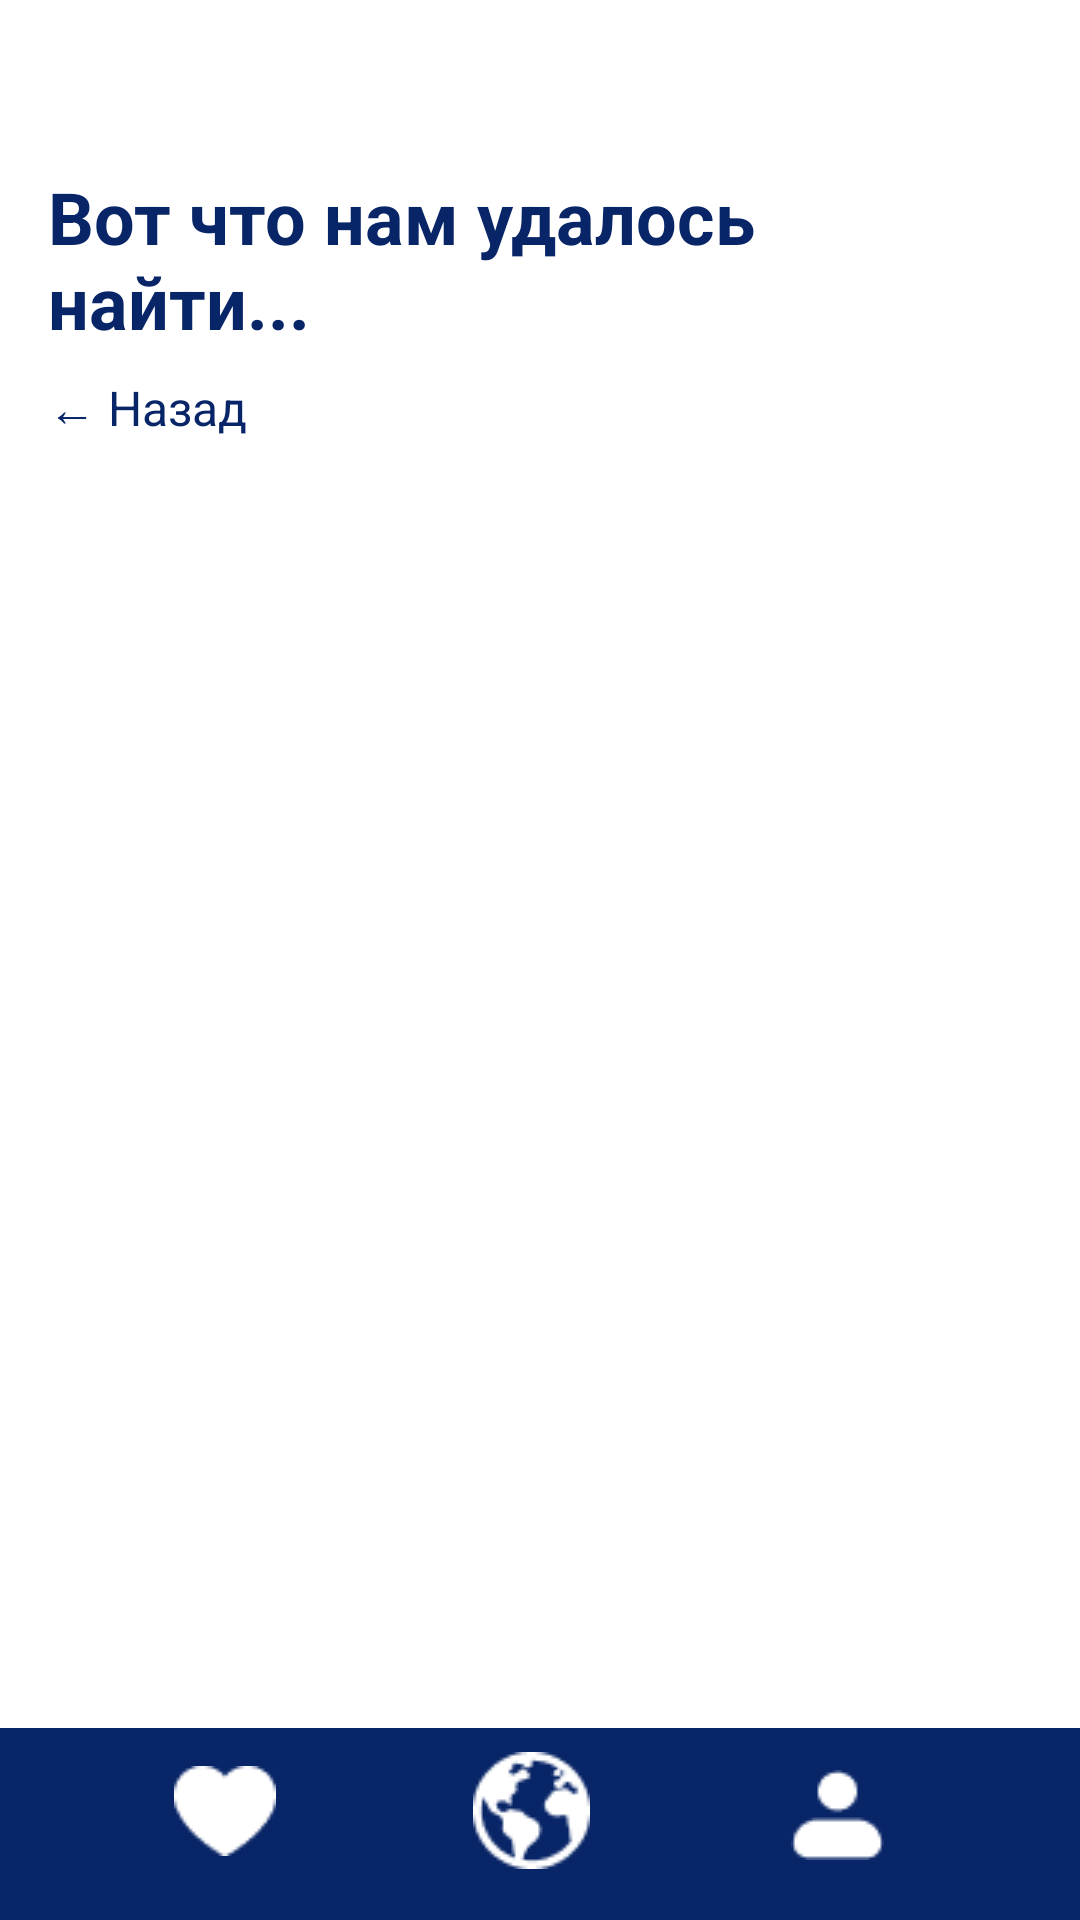

Icon bounding boxes for this 1080w x 1920h phone screenshot, format {"x1": x1, "y1": y1, "x2": x2, "y2": y2}:
Главная: {"x1": 473, "y1": 1752, "x2": 590, "y2": 1869}
Избранное: {"x1": 174, "y1": 1766, "x2": 276, "y2": 1856}
Профиль: {"x1": 791, "y1": 1770, "x2": 884, "y2": 1860}
